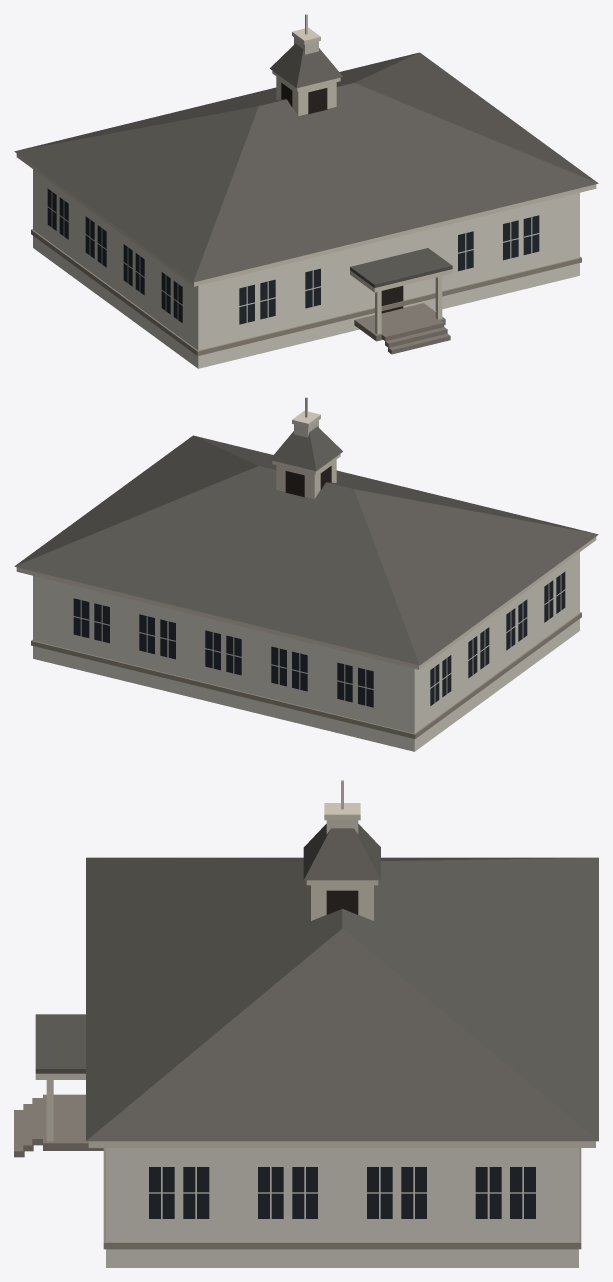
The model's file is primary-school-1913.glb.
The picture shows the model from 3 angles, top to bottom: view 1: azimuth 30°, elevation 25°; view 2: azimuth 150°, elevation 25°; view 3: azimuth 270°, elevation 25°; orthographic projection. The views are drawn at different scales.
Visible parts, largest first — view 1: primary_tar, primary_brick, primary_glass, primary_trim, primary_stone, primary_base, primary_sash, primary_dark; view 2: primary_tar, primary_brick, primary_glass, primary_trim, primary_stone, primary_sash, primary_dark; view 3: primary_tar, primary_brick, primary_glass, primary_trim, primary_stone, primary_base, primary_sash, primary_dark.
Part boxes in pixels (x1=…): primary_tar: x1=14, y1=43, x2=598, y2=287; primary_brick: x1=33, y1=169, x2=579, y2=368; primary_glass: x1=47, y1=188, x2=539, y2=324; primary_trim: x1=16, y1=14, x2=596, y2=334; primary_stone: x1=31, y1=229, x2=581, y2=355; primary_base: x1=354, y1=303, x2=450, y2=354; primary_sash: x1=47, y1=192, x2=539, y2=322; primary_dark: x1=281, y1=83, x2=403, y2=313; primary_tar: x1=14, y1=426, x2=598, y2=665; primary_brick: x1=33, y1=552, x2=579, y2=751; primary_glass: x1=73, y1=571, x2=565, y2=707; primary_trim: x1=16, y1=397, x2=596, y2=669; primary_stone: x1=31, y1=612, x2=581, y2=738; primary_sash: x1=73, y1=575, x2=565, y2=705; primary_dark: x1=285, y1=466, x2=331, y2=497; primary_tar: x1=35, y1=824, x2=598, y2=1141; primary_brick: x1=106, y1=1148, x2=578, y2=1267; primary_glass: x1=149, y1=1167, x2=535, y2=1218; primary_trim: x1=35, y1=780, x2=595, y2=1147; primary_stone: x1=103, y1=1148, x2=581, y2=1249; primary_base: x1=14, y1=1094, x2=103, y2=1157; primary_sash: x1=149, y1=1167, x2=535, y2=1218; primary_dark: x1=326, y1=890, x2=358, y2=914.
Size of the model in its own units: 23.4 by 13.7 by 20.41.
